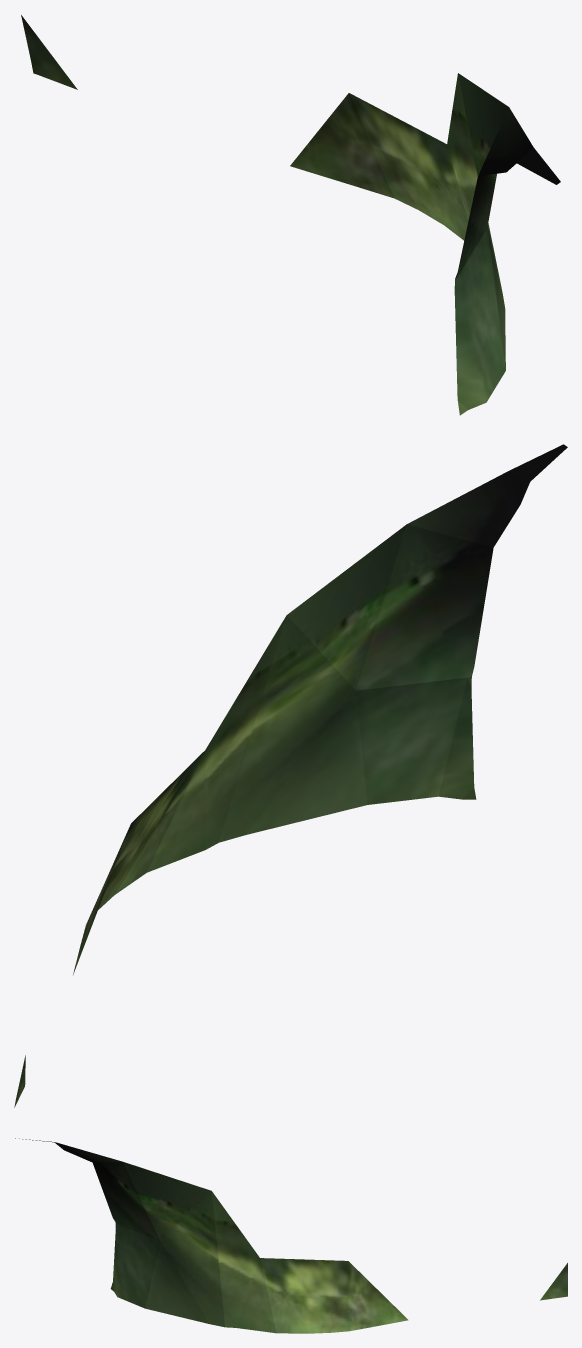
3 renders of one model, top to bottom at view 1: azimuth 30°, elevation 25°; view 2: azimuth 150°, elevation 25°; view 3: azimuth 270°, elevation 25°, orthographic. The views are drawn at different scales.
Size of the model in its own units: 4.99 by 7.89 by 26.11.
1 material, 1 textured.
